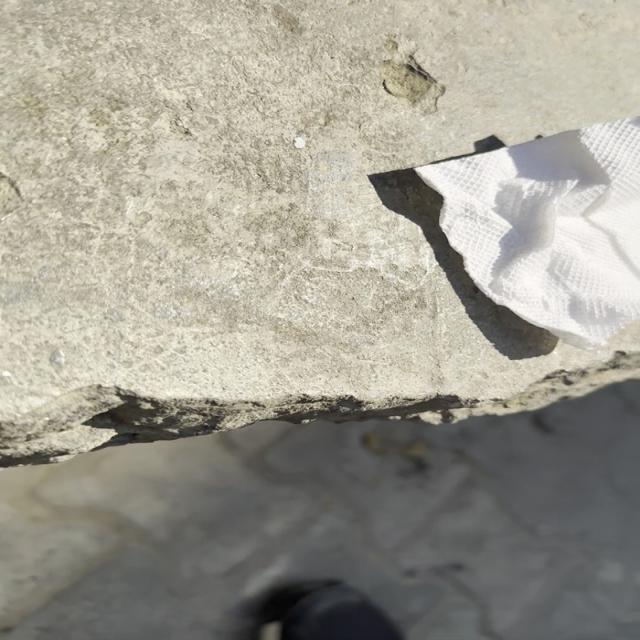tissue: (410, 112, 640, 358)
